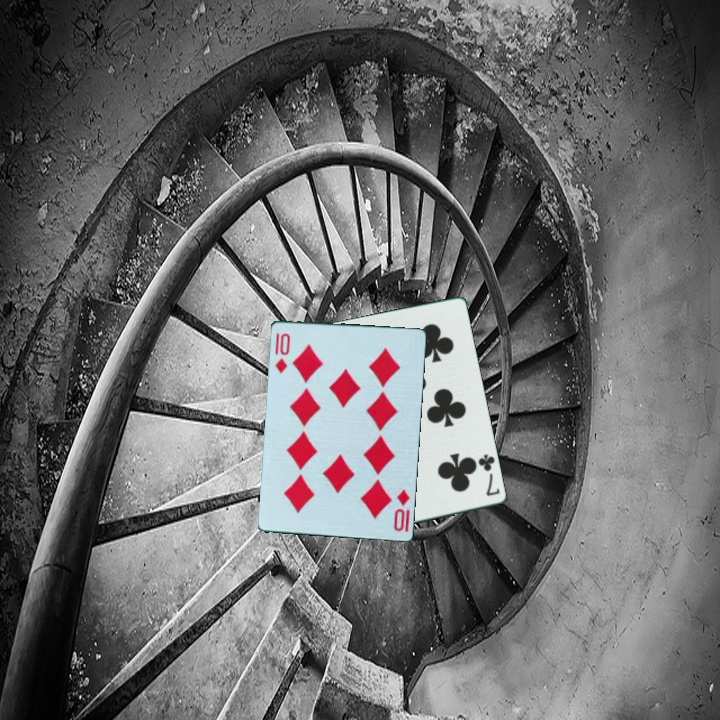10d: (390, 485, 412, 534), (271, 329, 293, 376)
7c: (475, 450, 503, 499)
